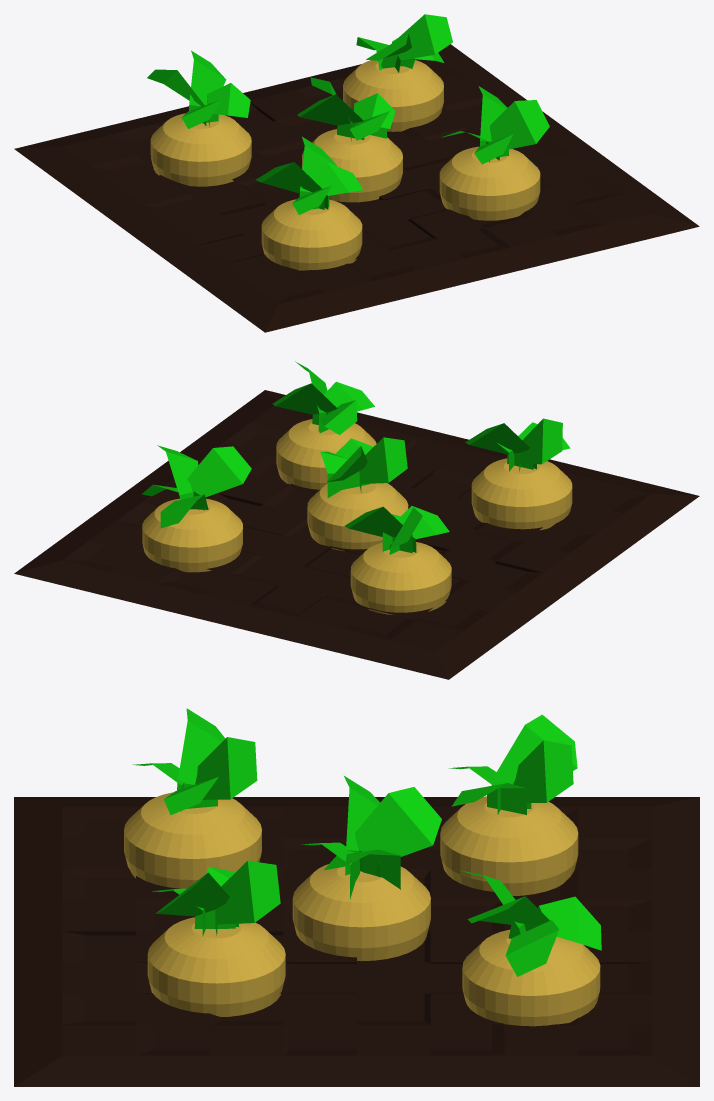
The model's file is Грядка с репой.obj.
3 views of the same model, one above another, from view 1: azimuth 30°, elevation 25°; view 2: azimuth 150°, elevation 25°; view 3: azimuth 270°, elevation 25° (orthographic). The views are drawn at different scales.
Parts seen in each view (by area): view 1: Plane, Circle.004, Circle.002, Circle, Circle.003, Circle.005, Plane.005, Plane.007, Plane.020, Plane.018, Plane.010, Plane.017 (+10 smaller); view 2: Plane, Circle.004, Circle, Circle.003, Circle.005, Circle.002, Plane.014, Plane.020, Plane.018, Plane.001, Plane.010, Plane.004 (+8 smaller); view 3: Plane, Circle.002, Circle.004, Circle.005, Circle.003, Circle, Plane.011, Plane.004, Plane.010, Plane.001, Plane.005, Plane.015 (+9 smaller).
Boxes of the visible parts, box(x1,y1,x2,y2) form: Plane: box(14, 44, 699, 332); Circle.004: box(150, 113, 251, 186); Circle.002: box(439, 146, 540, 220); Circle: box(261, 199, 362, 270); Circle.003: box(343, 60, 443, 131); Circle.005: box(302, 129, 402, 202); Plane.005: box(490, 100, 549, 160); Plane.007: box(394, 14, 452, 72); Plane.020: box(297, 94, 364, 139); Plane.018: box(256, 162, 324, 209); Plane.010: box(189, 50, 226, 110); Plane.017: box(314, 162, 363, 209); Plane: box(14, 390, 699, 679); Circle.004: box(350, 542, 451, 615); Circle: box(471, 458, 572, 530); Circle.003: box(142, 498, 242, 572); Circle.005: box(307, 483, 408, 551); Circle.002: box(276, 419, 376, 489); Plane.014: box(187, 446, 251, 510); Plane.020: box(359, 437, 407, 492); Plane.018: box(519, 418, 562, 471); Plane.001: box(465, 423, 533, 469); Plane.010: box(344, 506, 412, 553); Plane.004: box(272, 383, 337, 425); Plane: box(14, 797, 699, 1086); Circle.002: box(147, 917, 285, 1016); Circle.004: box(440, 796, 578, 895); Circle.005: box(292, 864, 430, 961); Circle.003: box(462, 929, 600, 1026); Circle: box(124, 792, 261, 888); Plane.011: box(355, 787, 441, 877); Plane.004: box(215, 860, 280, 935); Plane.010: box(512, 740, 573, 806); Plane.001: box(195, 737, 257, 799); Plane.005: box(155, 872, 235, 928); Plane.015: box(491, 714, 577, 808).
Size of the model in its own units: 2 by 0.5926 by 2.
